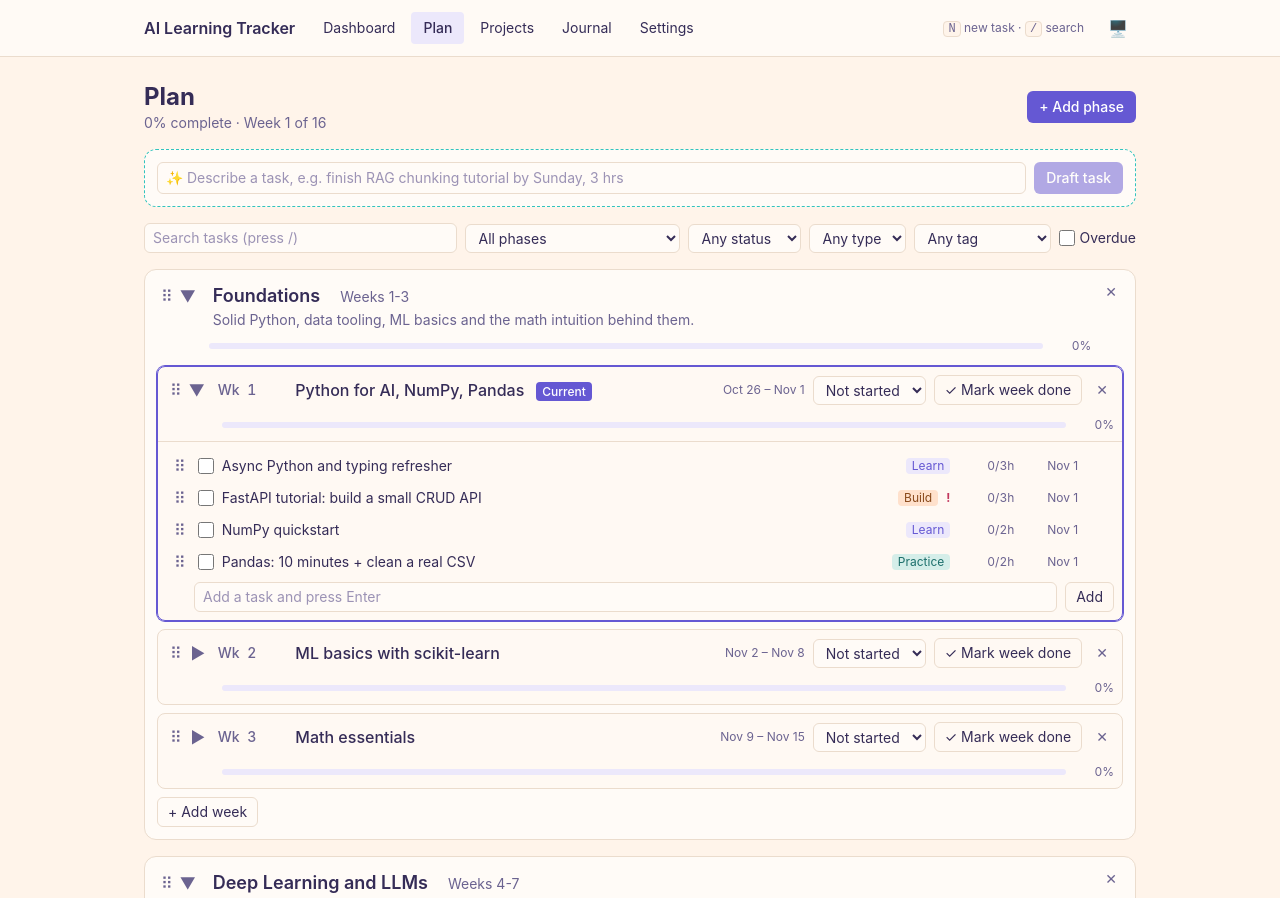
Test: PlanPage › opens the drawer and logs hours
Expected: the heading "Plan" is shown, [144,82,195,111]
Click the button "NumPy quickstart" at x=281, y=530, box [222,520,898,540]
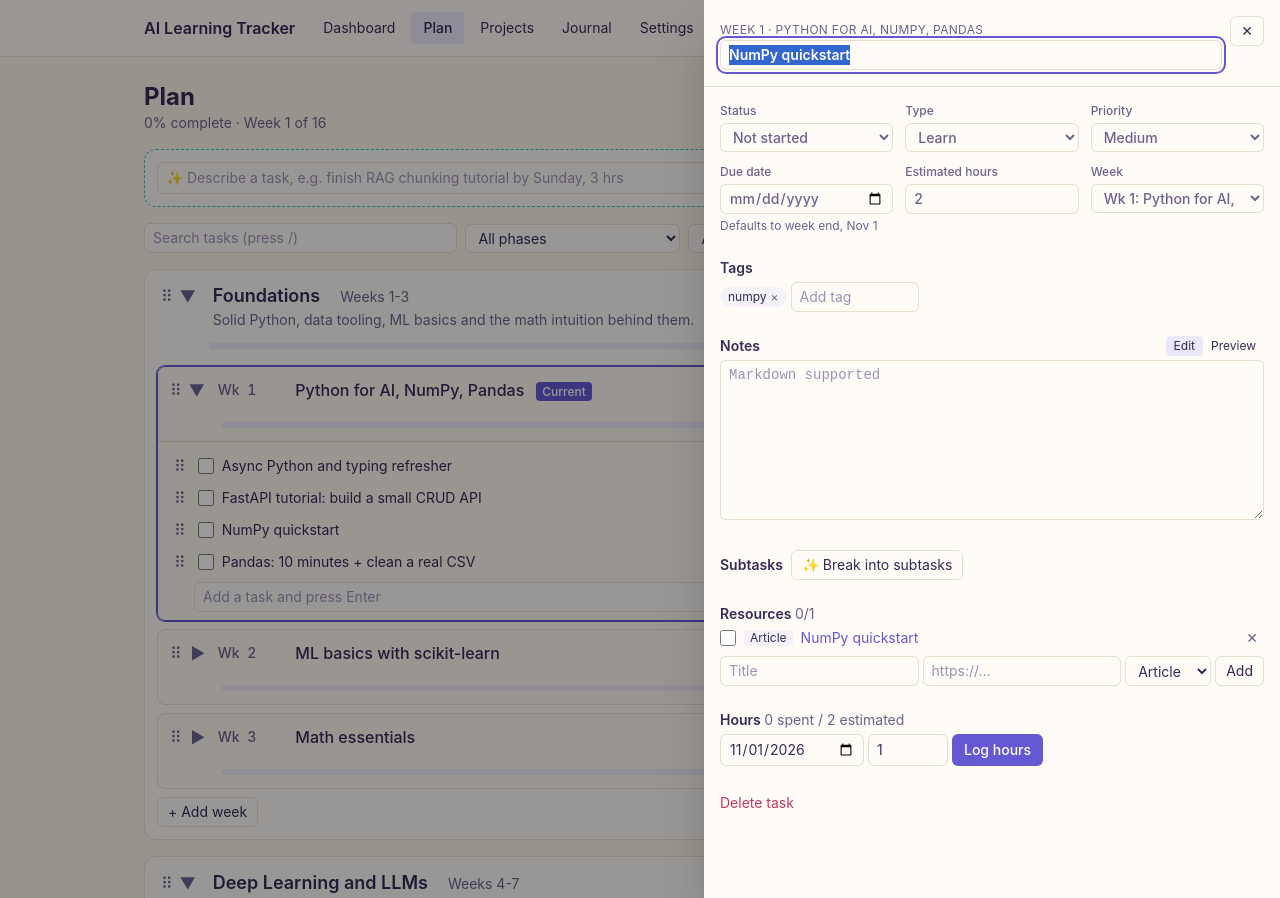
Replace the text in the number field named "Hours worked" with "1.5" at x=908, y=750, box [868,734,948,766]
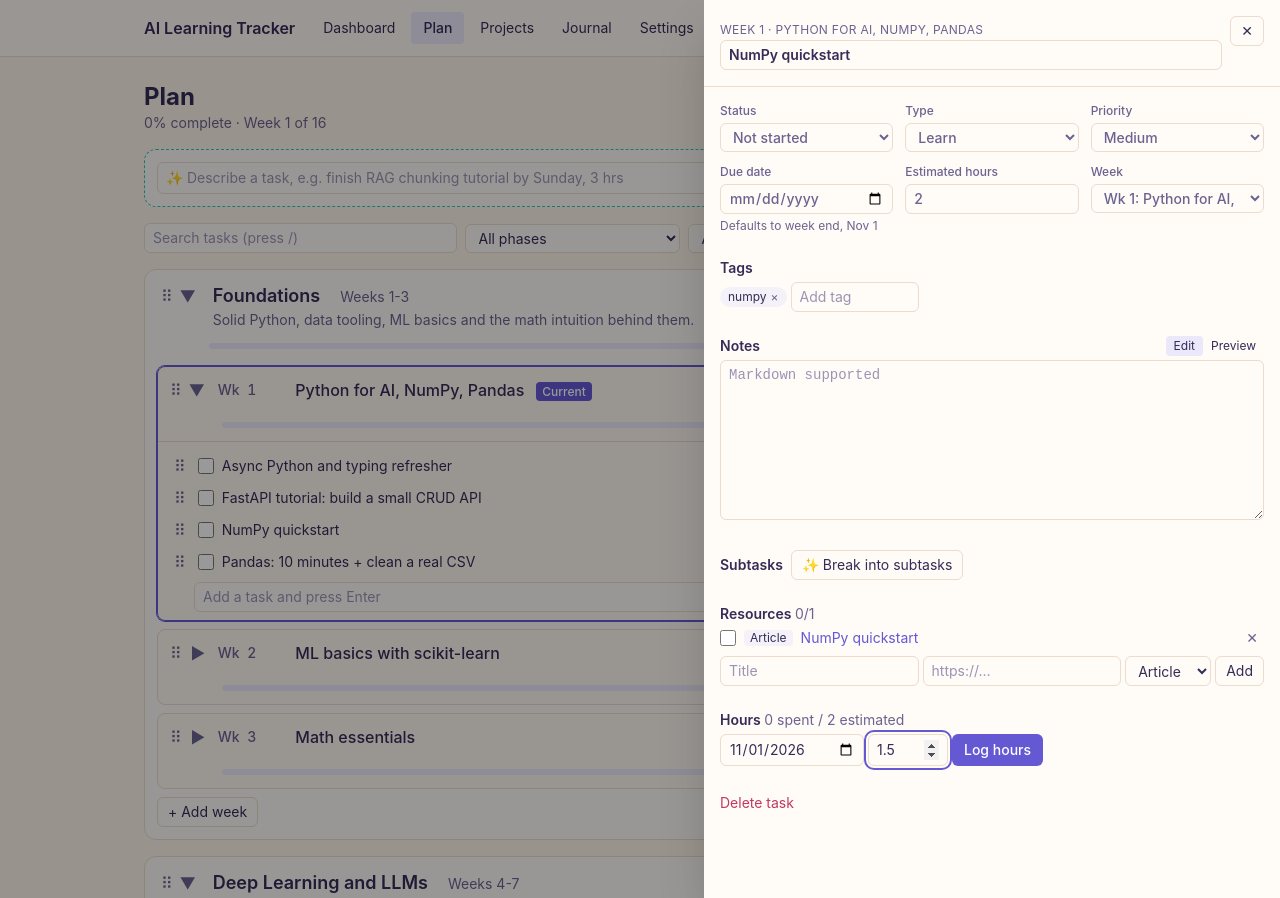
Click the button "Log hours" at x=998, y=750, box [952,734,1043,766]
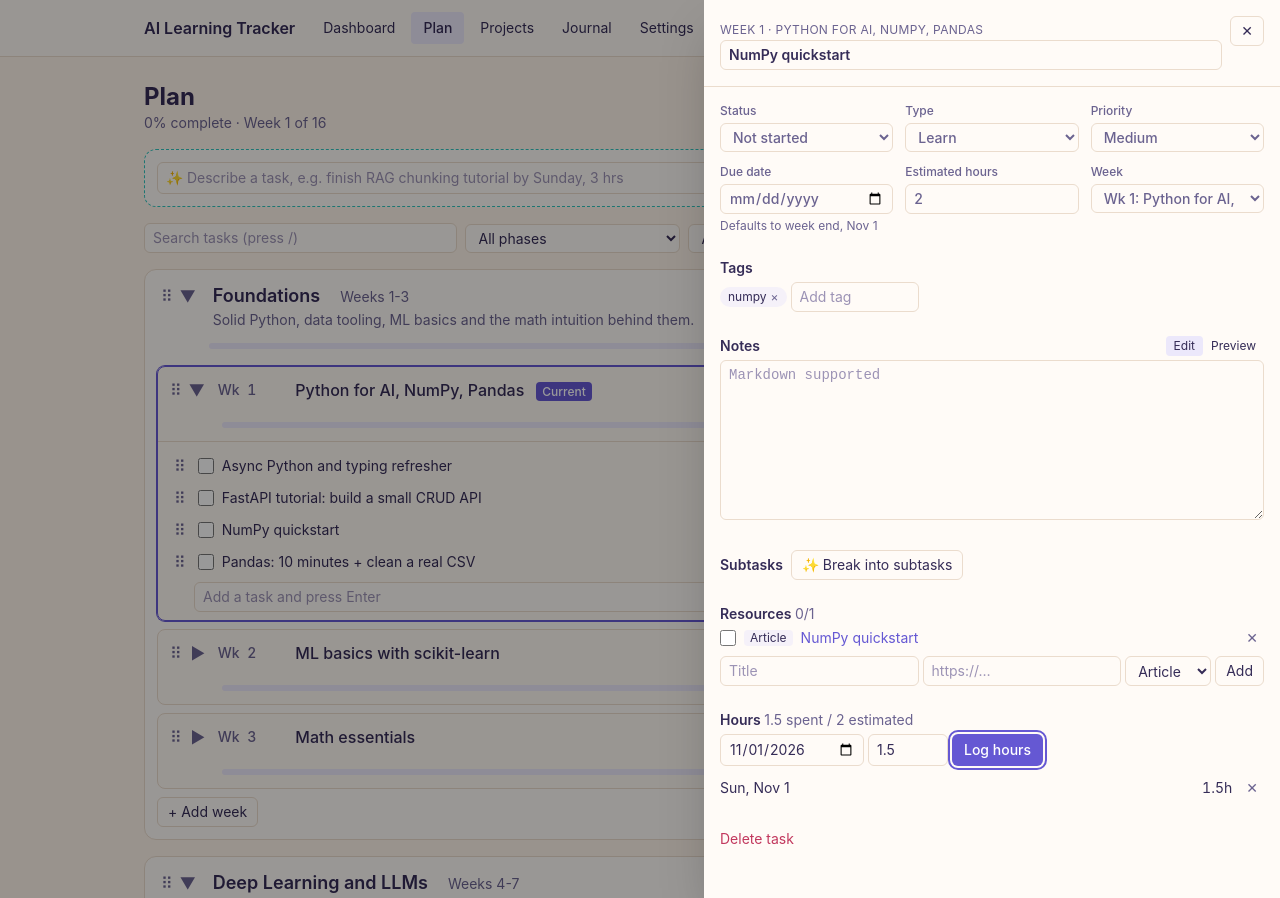
Expected: the text "1.5 spent / 2 estimated" is shown, [764,711,913,728]
